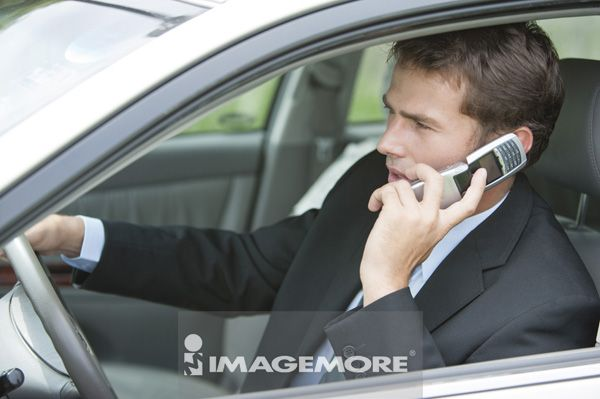talk: (357, 83, 533, 300)
